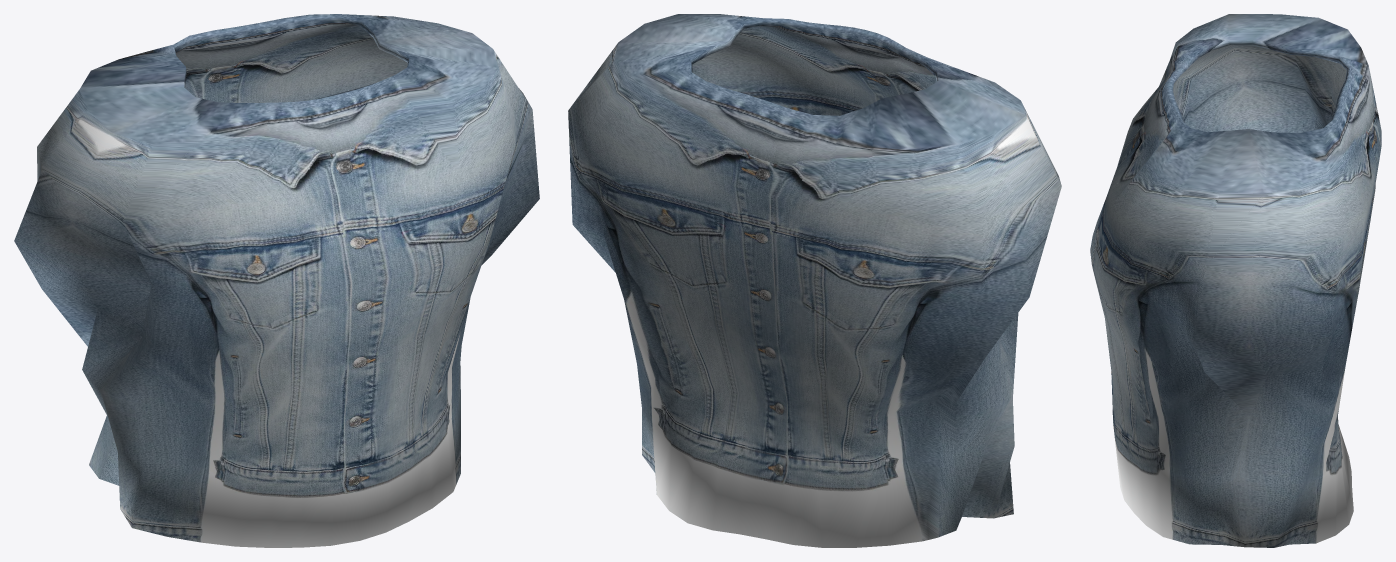
3 views of the same model, side by side, from view 1: azimuth 30°, elevation 25°; view 2: azimuth 150°, elevation 25°; view 3: azimuth 270°, elevation 25° (orthographic). The views are drawn at different scales.
Parts seen in each view (by area): view 1: garment; view 2: garment; view 3: garment.
Part boxes in pixels (x1,y1,x2,y2): garment: (14,14,539,547); garment: (568,14,1061,547); garment: (1090,14,1381,547).
Bounding box in the file's own units: 0.556 × 0.4841 × 0.3168.
Materials: 1 (1 with a texture image).
